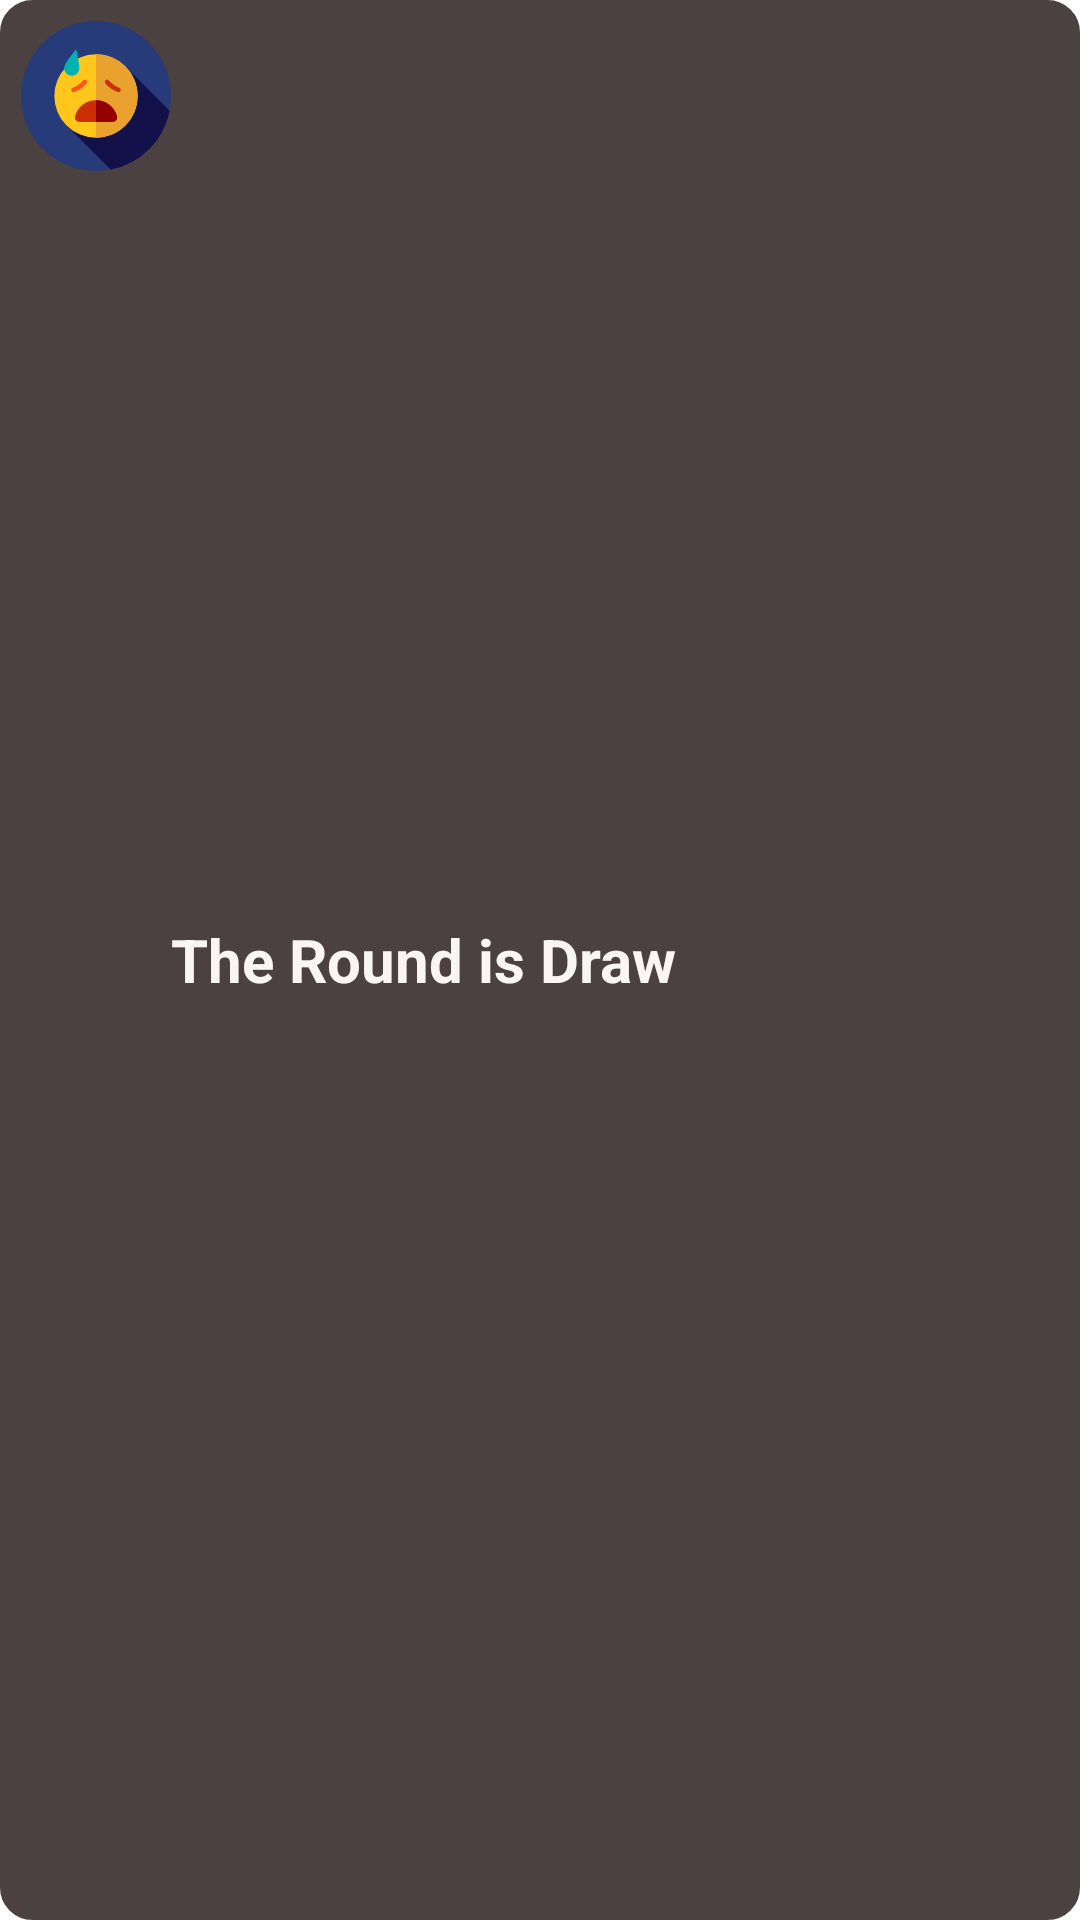

Icons on this 1080w x 1920h Android screen, each with the point to tap as (x,y):
drawsad: (96,96)
